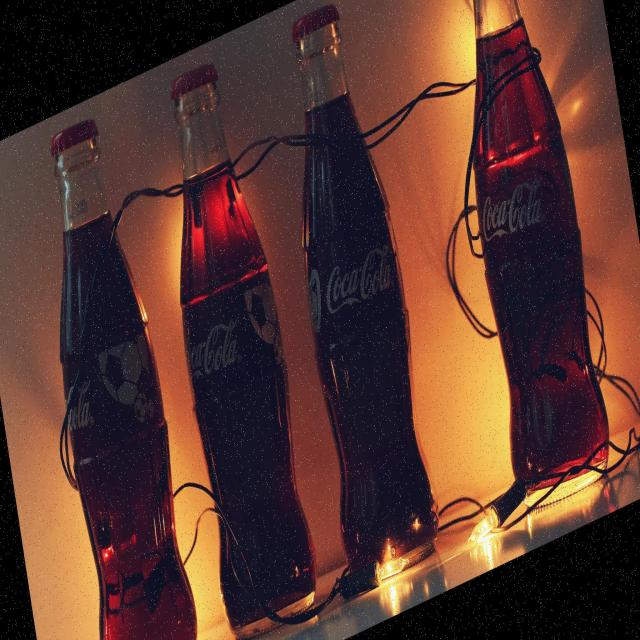coca-cola: (141, 36, 328, 640), (265, 0, 450, 602), (429, 0, 620, 536), (25, 95, 206, 640)
